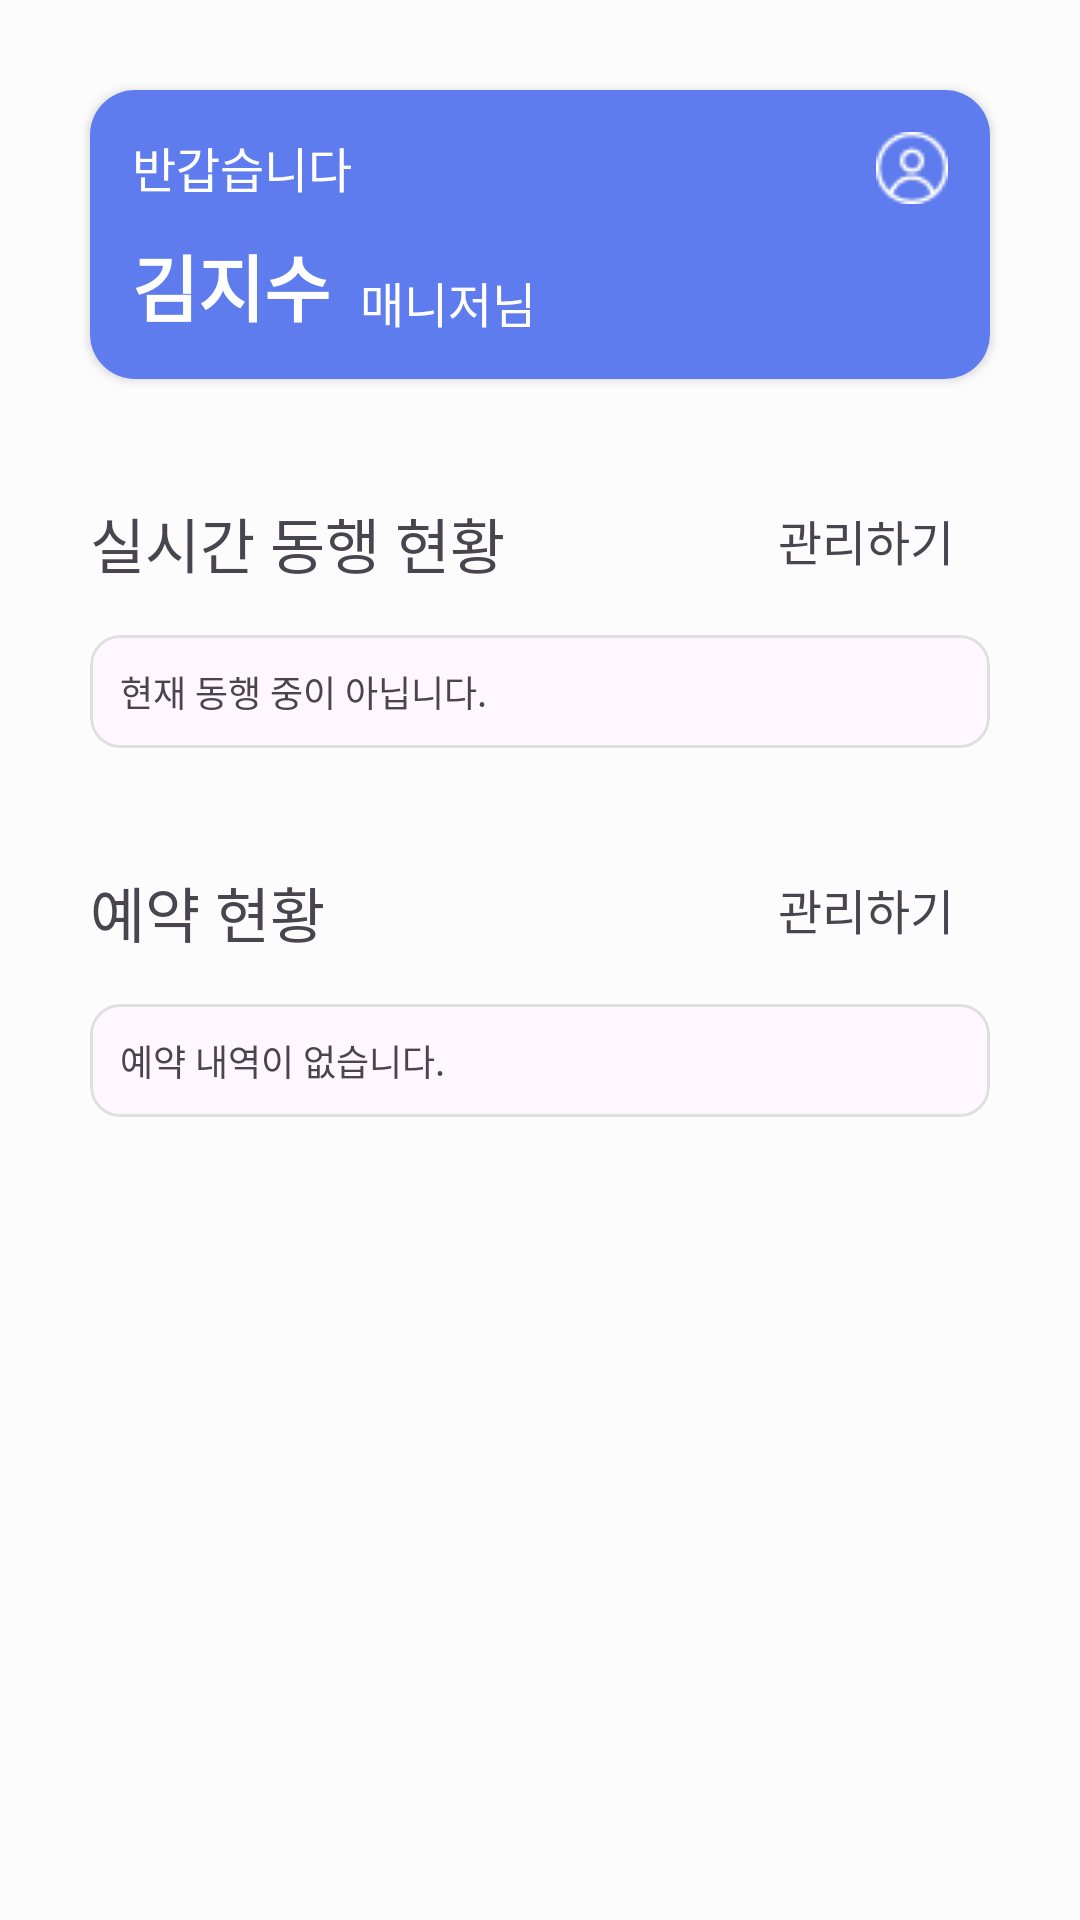

Point at icon controls on the screen. Image size 1080 x 1920, points as point (x, y).
profile base: point (912, 168)
